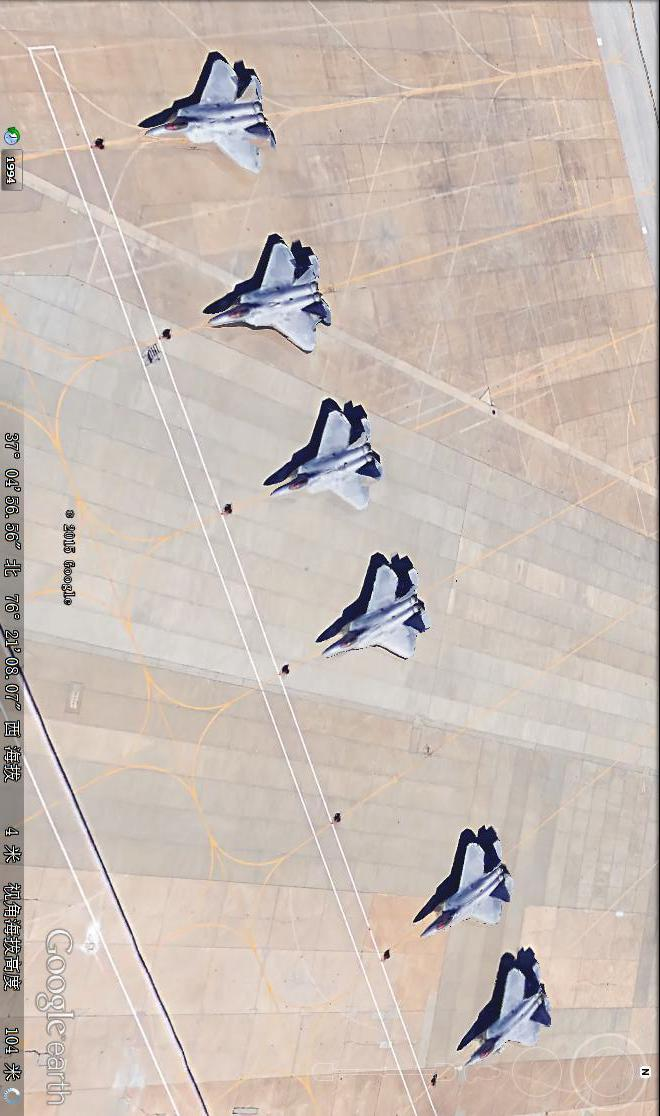F-22: (141, 48, 279, 178), (201, 237, 337, 354), (265, 400, 384, 514), (318, 553, 433, 666), (417, 826, 521, 937), (454, 958, 556, 1070)
